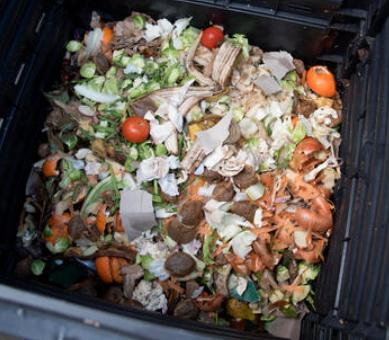organic: (17, 11, 346, 337)
